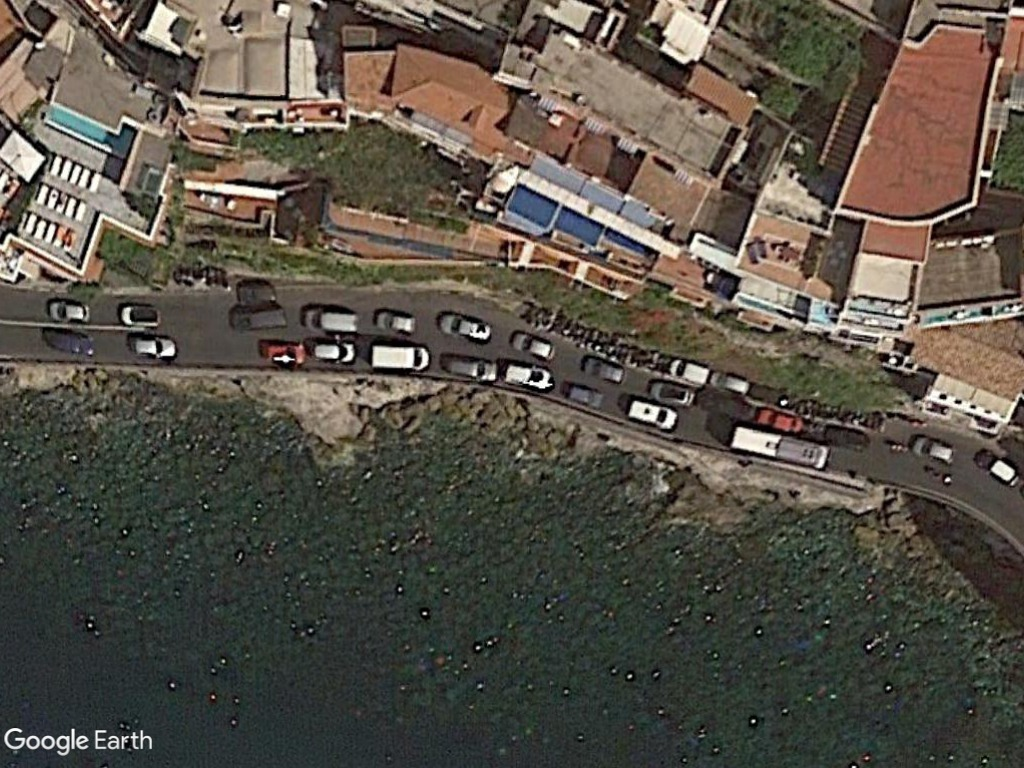bus: (724, 421, 834, 471)
car: (441, 352, 504, 384), (437, 311, 494, 344), (908, 431, 960, 465), (508, 331, 559, 362), (125, 334, 181, 361), (370, 307, 421, 336), (45, 298, 95, 326), (307, 340, 358, 366)
van: (367, 339, 434, 373), (624, 397, 682, 433), (299, 304, 363, 336), (666, 354, 715, 389)
